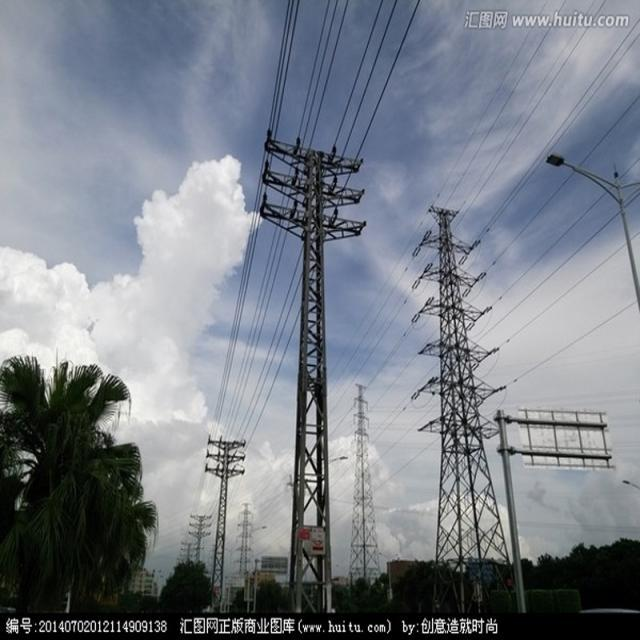non-critical vegetation: (244, 118, 353, 612), (411, 183, 511, 579), (344, 380, 393, 606), (201, 429, 242, 599)
